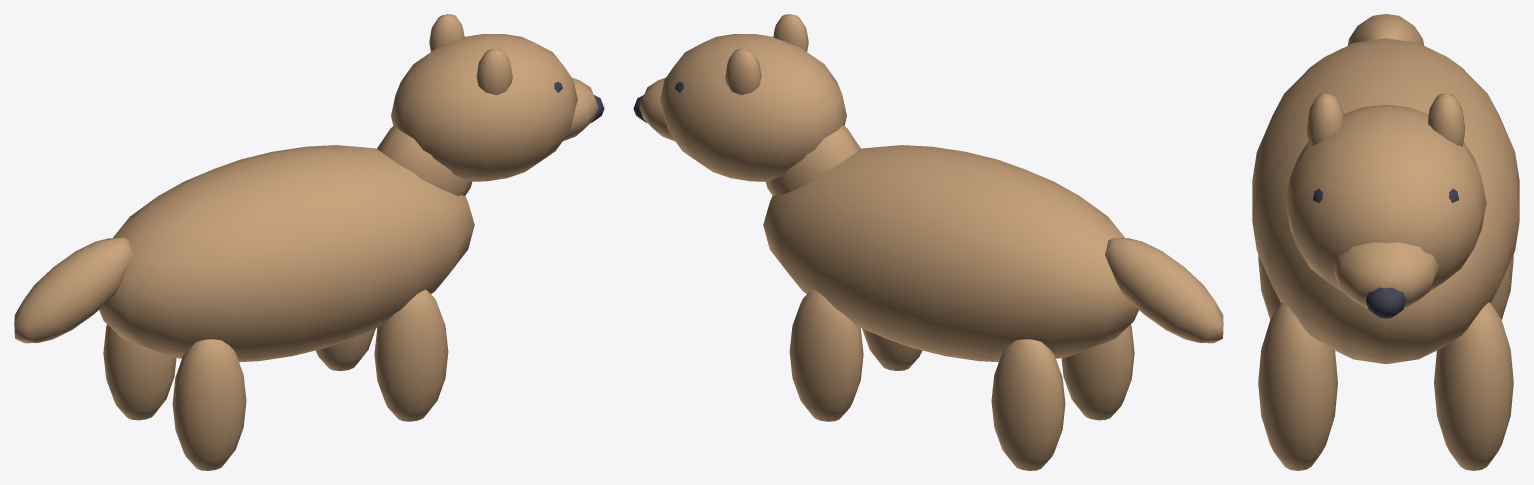
The model's file is dog.glb.
The picture shows the model from 3 angles, left to right: view 1: azimuth 30°, elevation 25°; view 2: azimuth 150°, elevation 25°; view 3: azimuth 270°, elevation 25°; orthographic projection. The views are drawn at different scales.
Visible parts, largest first — view 1: Body, Head, LegBackLeft, LegFrontLeft, Tail, LegBackRight, Neck, EarLeft, LegFrontRight, Snout, EarRight; view 2: Body, Head, LegBackRight, LegFrontRight, Tail, LegBackLeft, Neck, EarRight, LegFrontLeft, Snout, EarLeft; view 3: Body, Head, LegFrontLeft, LegFrontRight, Snout, Tail, EarLeft, EarRight, Nose, LegBackLeft, LegBackRight.
Part boxes in pixels (x1=…): Body: x1=99, y1=145, x2=474, y2=362; Head: x1=391, y1=34, x2=577, y2=181; LegBackLeft: x1=172, y1=339, x2=246, y2=470; LegFrontLeft: x1=374, y1=289, x2=448, y2=421; Tail: x1=14, y1=237, x2=132, y2=343; LegBackRight: x1=103, y1=324, x2=176, y2=420; Neck: x1=377, y1=125, x2=472, y2=196; EarLeft: x1=476, y1=48, x2=512, y2=95; LegFrontRight: x1=315, y1=328, x2=375, y2=370; Snout: x1=563, y1=77, x2=598, y2=140; EarRight: x1=429, y1=14, x2=464, y2=51; Body: x1=763, y1=145, x2=1138, y2=362; Head: x1=660, y1=34, x2=846, y2=181; LegBackRight: x1=991, y1=339, x2=1065, y2=470; LegFrontRight: x1=789, y1=289, x2=863, y2=421; Tail: x1=1105, y1=237, x2=1223, y2=343; LegBackLeft: x1=1061, y1=324, x2=1134, y2=420; Neck: x1=765, y1=125, x2=860, y2=196; EarRight: x1=725, y1=48, x2=761, y2=95; LegFrontLeft: x1=862, y1=328, x2=922, y2=370; Snout: x1=639, y1=77, x2=674, y2=140; EarLeft: x1=773, y1=14, x2=808, y2=51; Body: x1=1252, y1=38, x2=1519, y2=364; Head: x1=1285, y1=104, x2=1486, y2=291; LegFrontLeft: x1=1258, y1=302, x2=1337, y2=470; LegFrontRight: x1=1434, y1=302, x2=1513, y2=470; Snout: x1=1333, y1=242, x2=1438, y2=308; Tail: x1=1347, y1=14, x2=1424, y2=45; EarLeft: x1=1307, y1=93, x2=1343, y2=146; EarRight: x1=1428, y1=93, x2=1464, y2=146; Nose: x1=1366, y1=287, x2=1405, y2=318; LegBackLeft: x1=1258, y1=254, x2=1280, y2=319; LegBackRight: x1=1491, y1=254, x2=1513, y2=319.
Bounding box in the file's own units: 1.84 × 1.02 × 0.5692.
